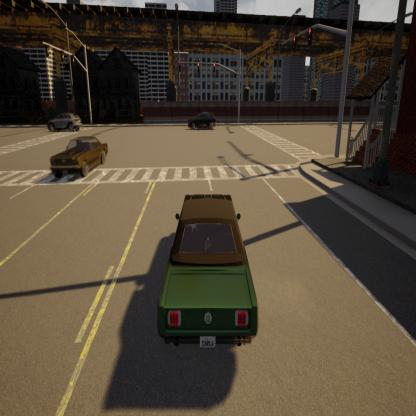Cars: (145, 170, 271, 380), (49, 126, 111, 188), (46, 105, 86, 137), (187, 111, 219, 131)
